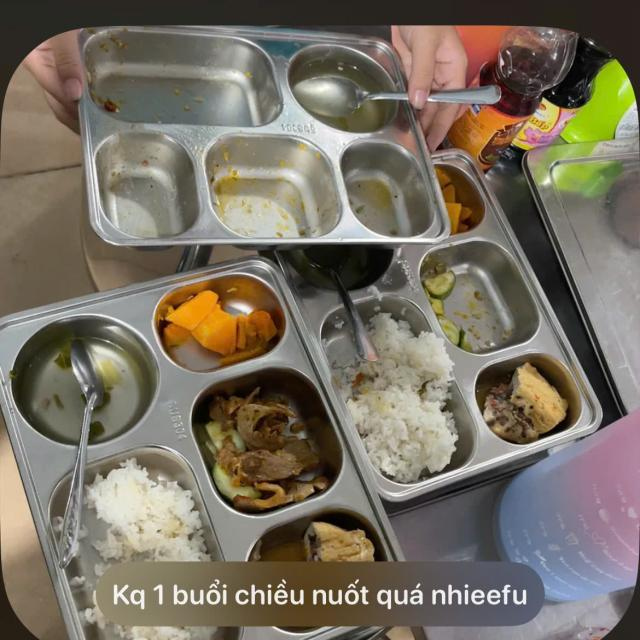com_trang: (334, 320, 474, 474), (76, 491, 210, 562)
dau_hu_sot_ca: (484, 372, 575, 438)
thit_kho: (210, 396, 319, 494)
